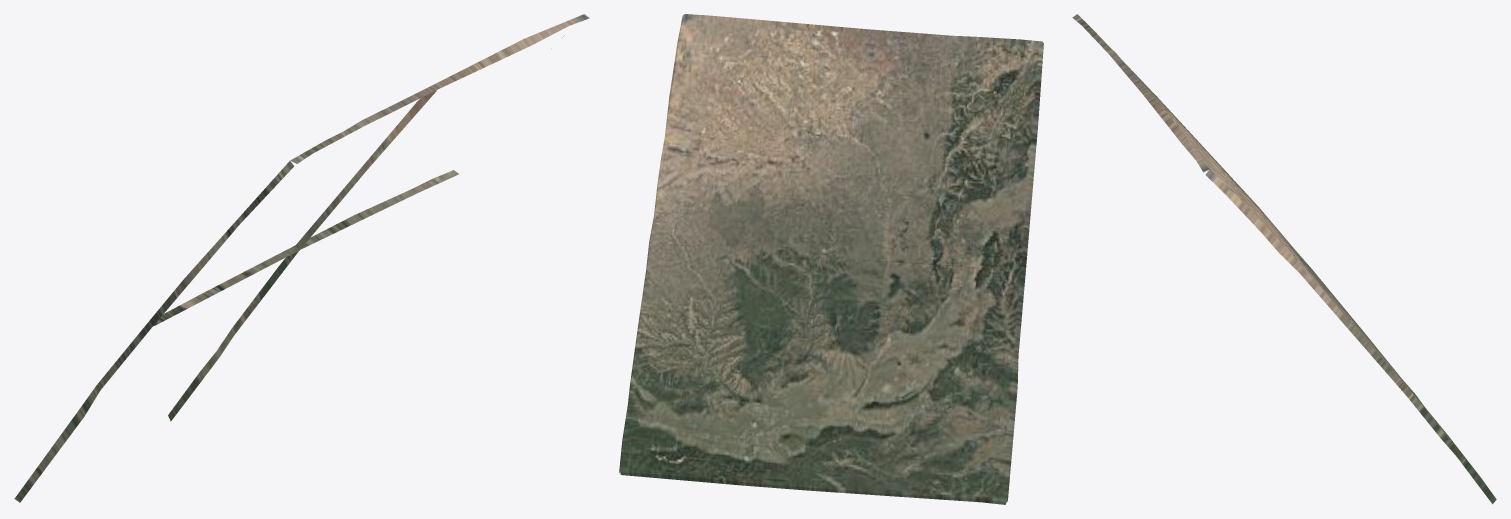
3 renders of one model, left to right at view 1: azimuth 30°, elevation 25°; view 2: azimuth 150°, elevation 25°; view 3: azimuth 270°, elevation 25°, orthographic. The views are drawn at different scales.
Bounding box in the file's own units: 605201 × 514373 × 527893.
1 material, 1 textured.
